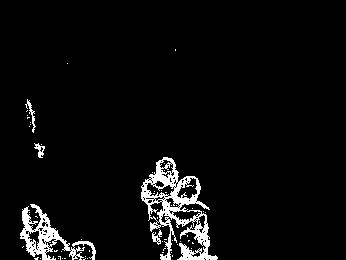person: (161, 177, 216, 260), (143, 156, 177, 248)
